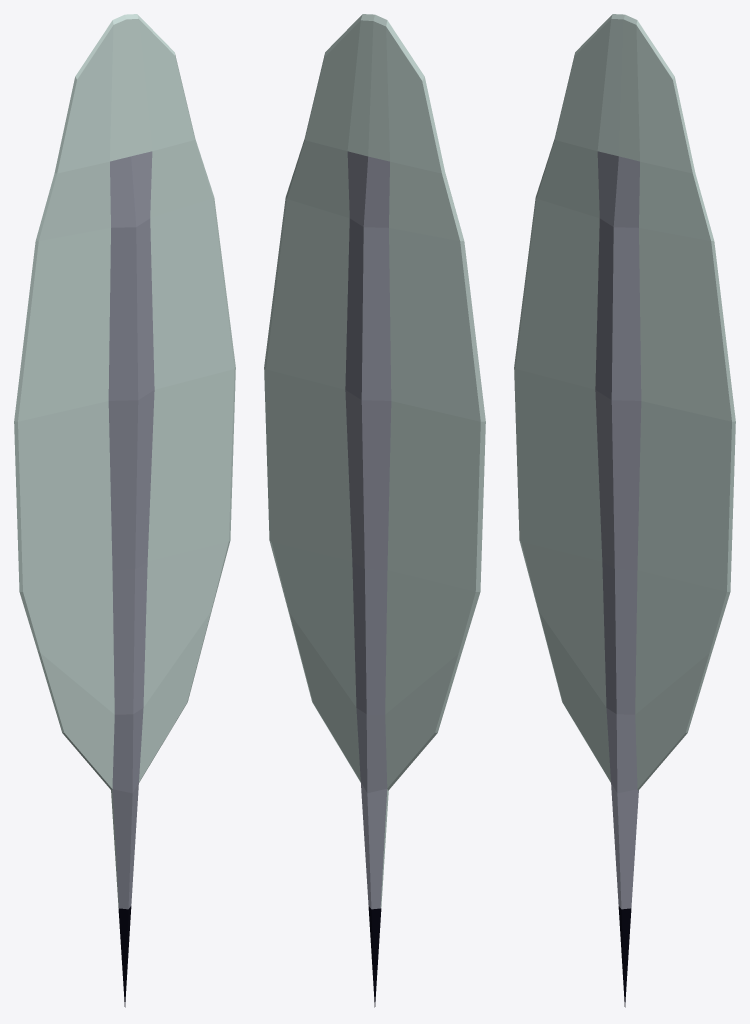
Rendered from pen.fbx.
3 views of the same model, side by side, from view 1: azimuth 30°, elevation 25°; view 2: azimuth 150°, elevation 25°; view 3: azimuth 330°, elevation 25° (orthographic).
Parts seen in each view (by area): view 1: pen; view 2: pen; view 3: pen.
Part boxes in pixels (x1=…): pen: x1=14, y1=14, x2=235, y2=1007; pen: x1=264, y1=14, x2=485, y2=1007; pen: x1=514, y1=14, x2=735, y2=1007.
Bounding box in the file's own units: 4.06 × 17.4 × 0.84.
